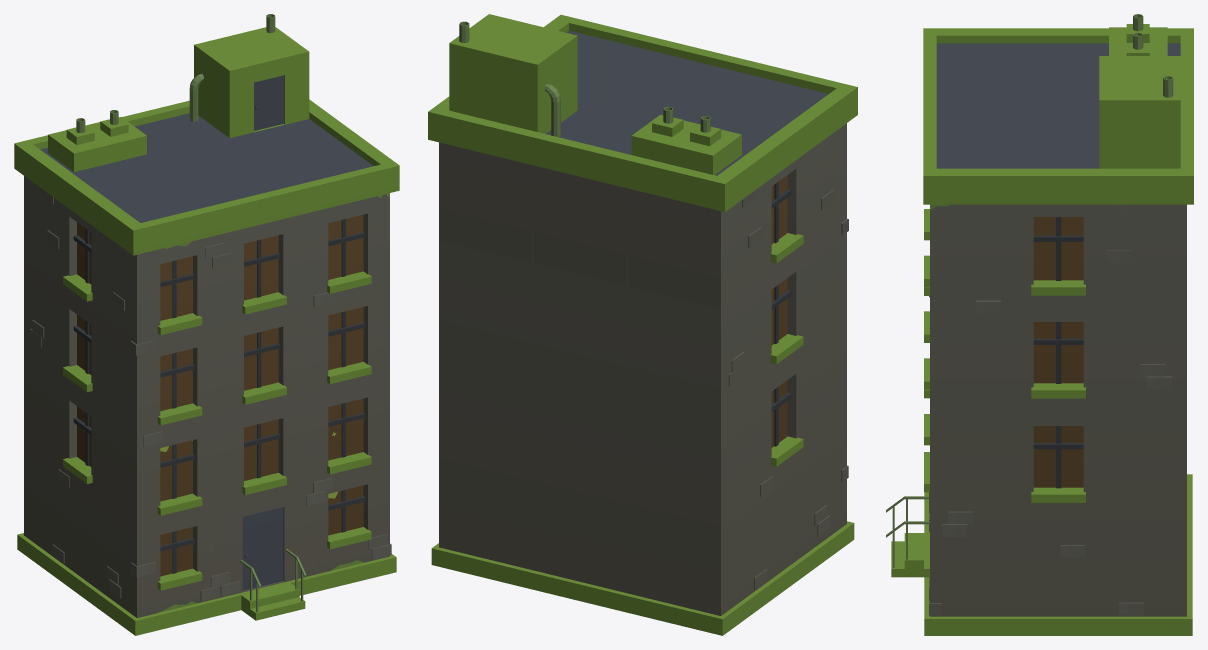
The model's file is House_03.fbx.
3 renders of one model, left to right at view 1: azimuth 30°, elevation 25°; view 2: azimuth 150°, elevation 25°; view 3: azimuth 270°, elevation 25°, orthographic. The views are drawn at different scales.
Parts seen in each view (by area): view 1: House_03; view 2: House_03; view 3: House_03.
Part boxes in pixels (left/top/right/bottom): House_03: left=14, top=14, right=399, bottom=635; House_03: left=428, top=14, right=857, bottom=635; House_03: left=886, top=14, right=1193, bottom=635.
Size of the model in its own units: 7.14 by 12.35 by 6.29.
